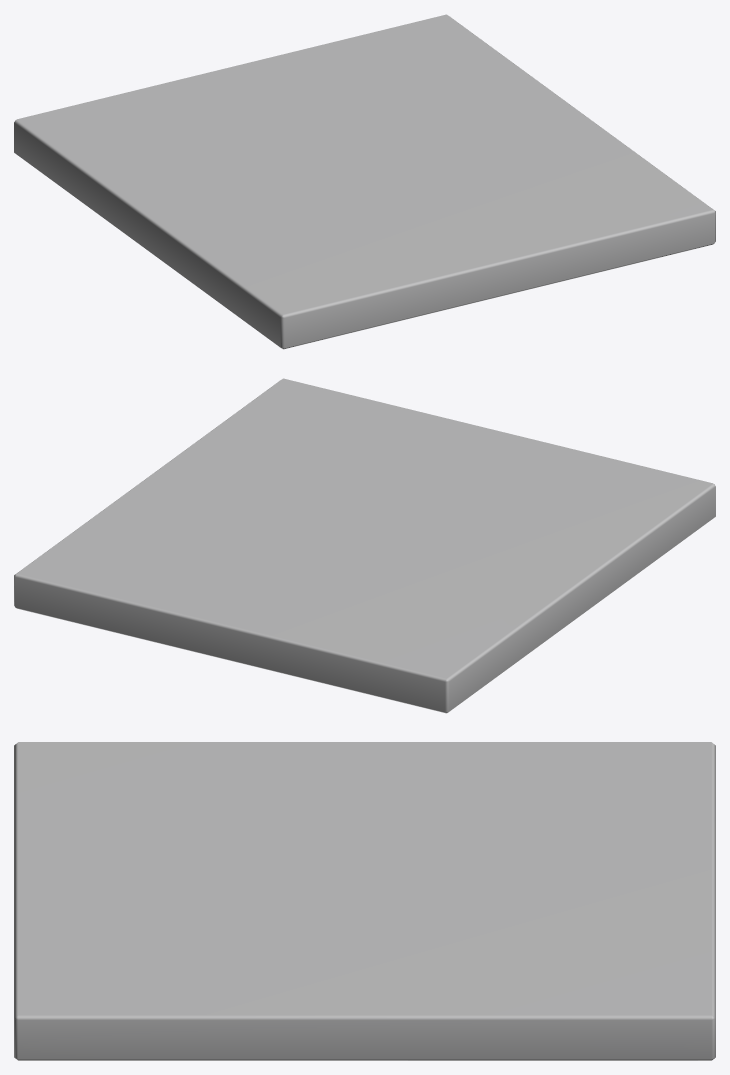
The model's file is City_8_Base_2.glb.
The picture shows the model from 3 angles, top to bottom: view 1: azimuth 30°, elevation 25°; view 2: azimuth 150°, elevation 25°; view 3: azimuth 270°, elevation 25°; orthographic projection. The views are drawn at different scales.
Parts seen in each view (by area): view 1: City_8_Base_2; view 2: City_8_Base_2; view 3: City_8_Base_2.
Part boxes in pixels (x1,y1,x2,y2): City_8_Base_2: (14,14,715,349); City_8_Base_2: (14,378,715,713); City_8_Base_2: (14,742,715,1060).
Bounding box in the file's own units: 8.14 × 0.6294 × 8.74.
1 material, 1 textured.
